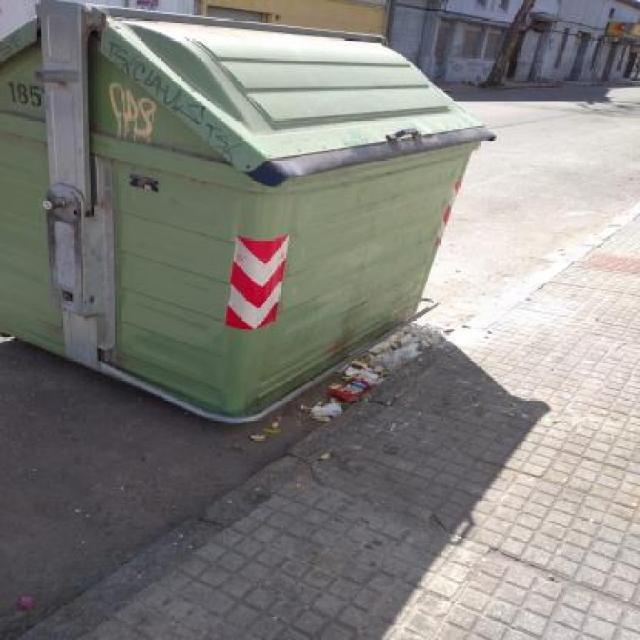garbage: (288, 311, 462, 427)
